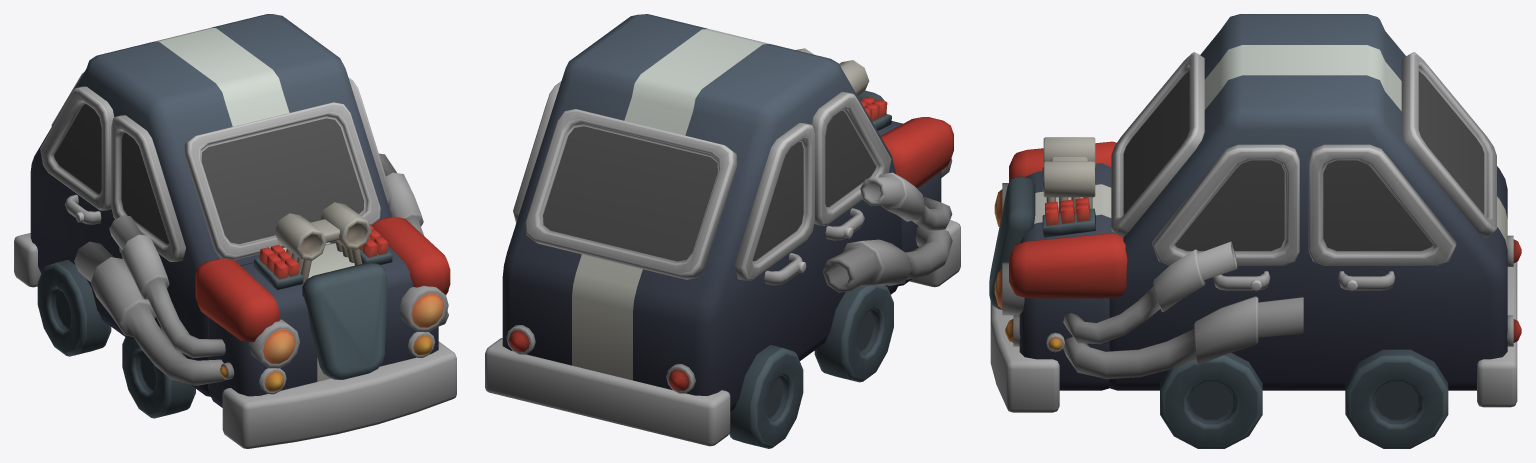
Rendered from mct_car_12.fbx.
The picture shows the model from 3 angles, left to right: view 1: azimuth 30°, elevation 25°; view 2: azimuth 150°, elevation 25°; view 3: azimuth 270°, elevation 25°; orthographic projection. The views are drawn at different scales.
Parts seen in each view (by area): view 1: mct_car_12, mct_car_12_w; view 2: mct_car_12, mct_car_12_w; view 3: mct_car_12, mct_car_12_w.
Part boxes in pixels (x1=…): mct_car_12: x1=14, y1=14, x2=456, y2=448; mct_car_12_w: x1=37, y1=260, x2=195, y2=418; mct_car_12: x1=485, y1=14, x2=960, y2=446; mct_car_12_w: x1=729, y1=285, x2=893, y2=448; mct_car_12: x1=989, y1=14, x2=1521, y2=412; mct_car_12_w: x1=1160, y1=349, x2=1448, y2=448.
Size of the model in its own units: 164 by 159 by 233.
